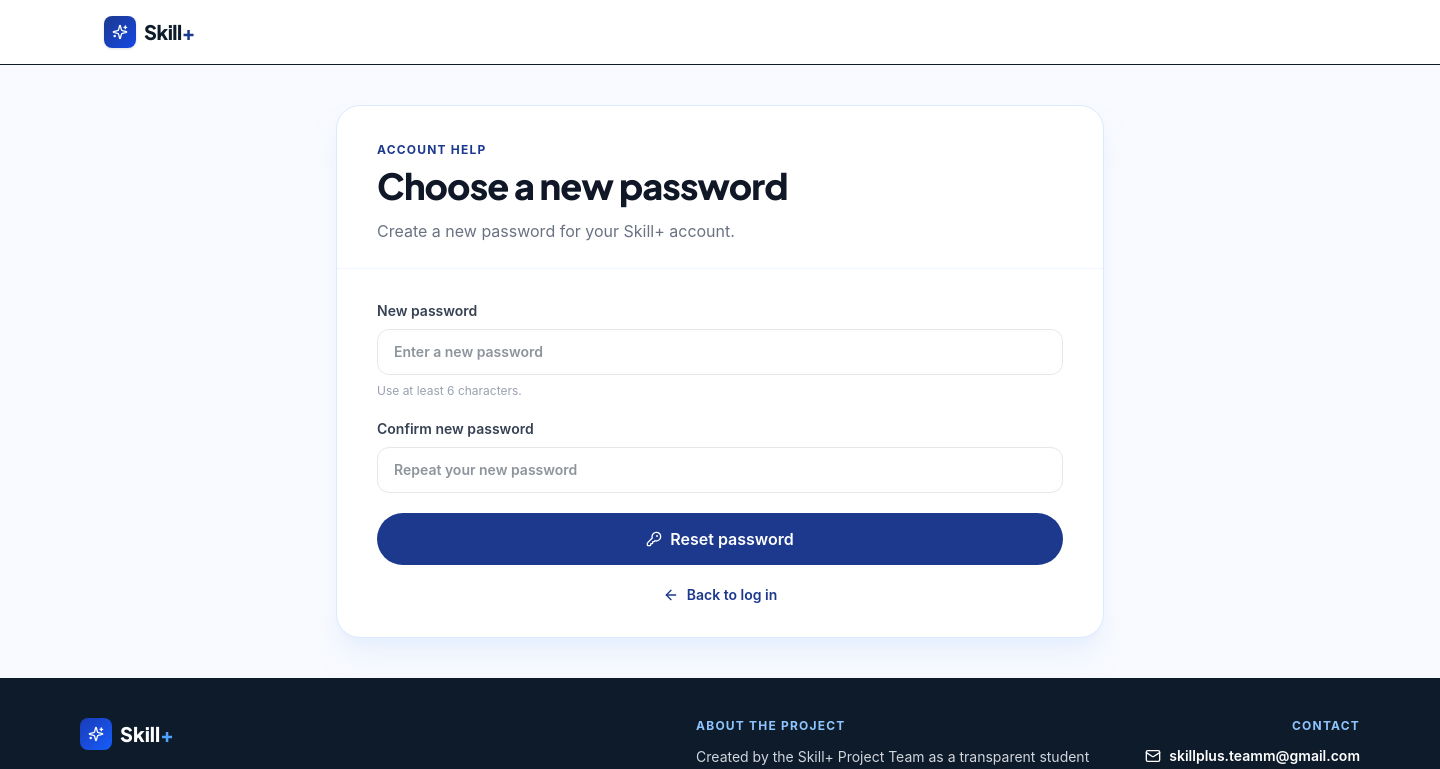
it: Member 5 complete student flow › shows the backend message for an expired or used reset token
This screenshot has width=1440, height=769.
Type "newPassword123" into the password field labelled "New password Use at least 6 characters." at (720, 352), box [377, 329, 1063, 375]
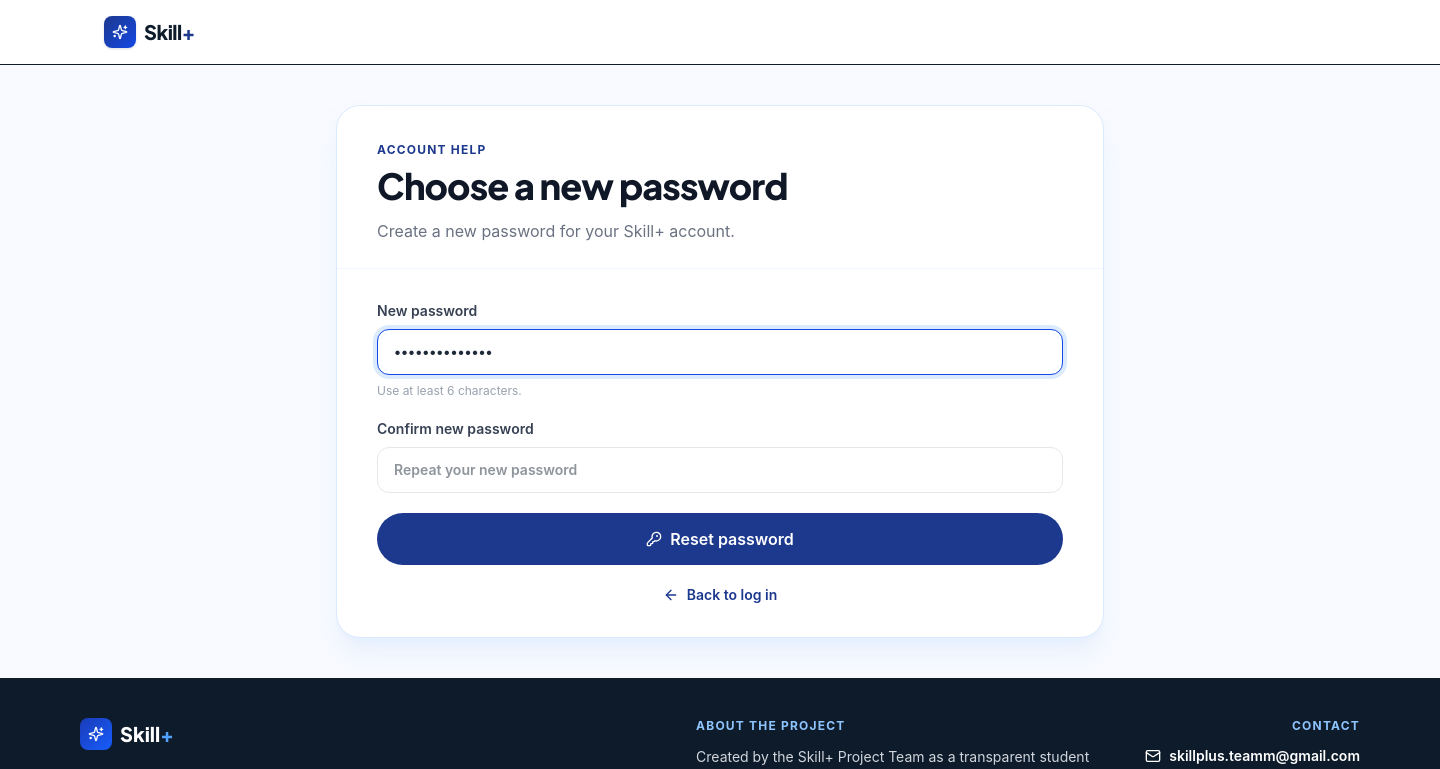
Type "newPassword123" into the password field labelled "Confirm new password" at (720, 470), box [377, 447, 1063, 493]
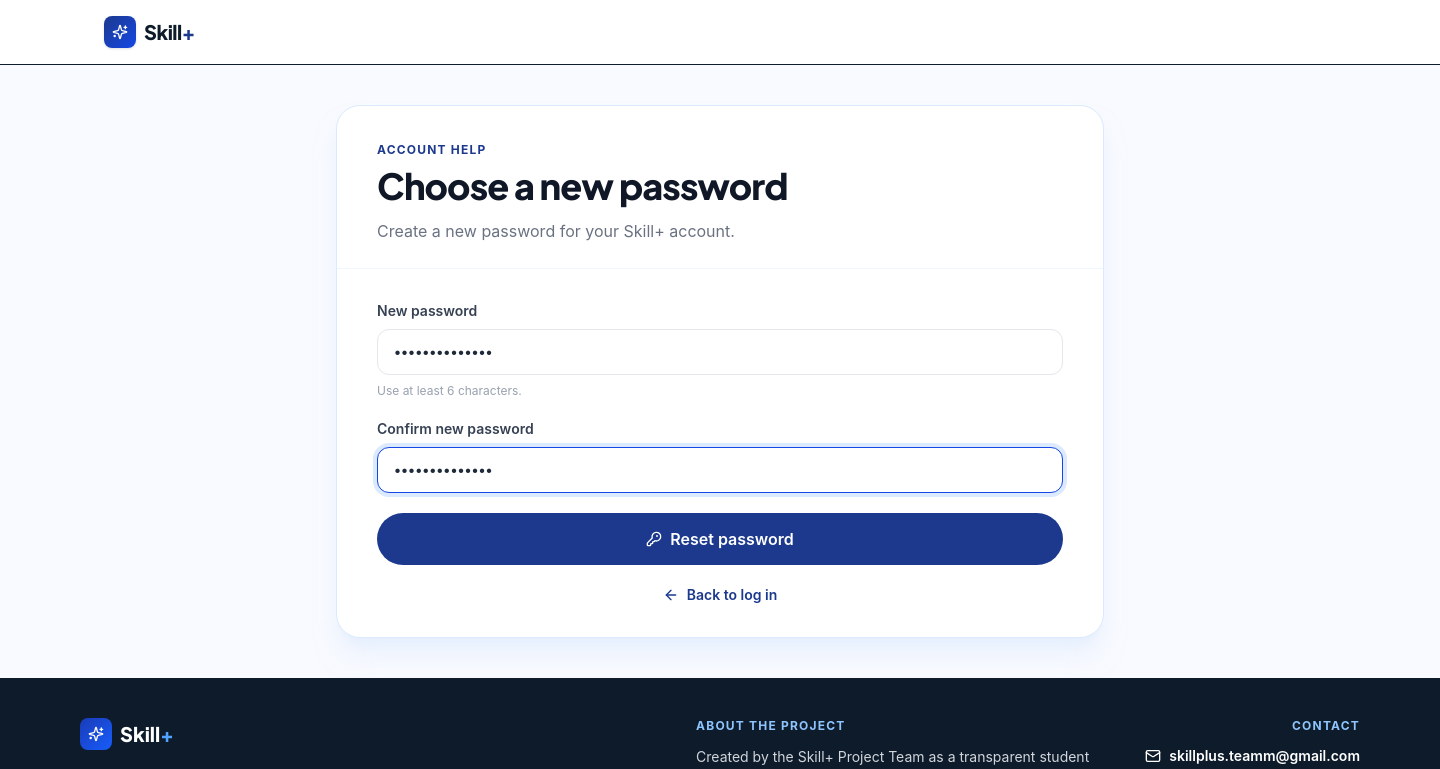
Click the button "Reset password" at (720, 539), box [377, 513, 1063, 565]
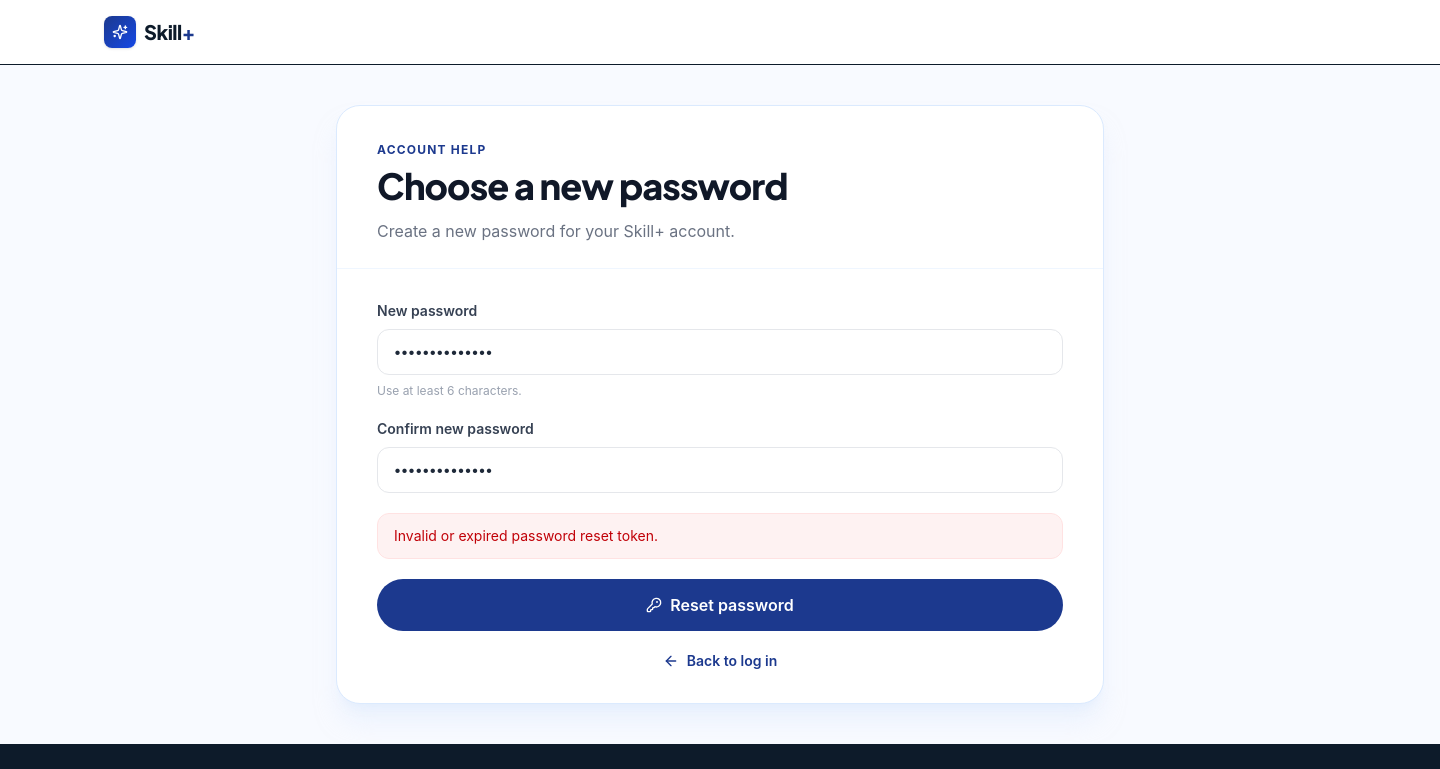
expect the message reads "Invalid or expired password reset token.": met, box [394, 527, 658, 544]
